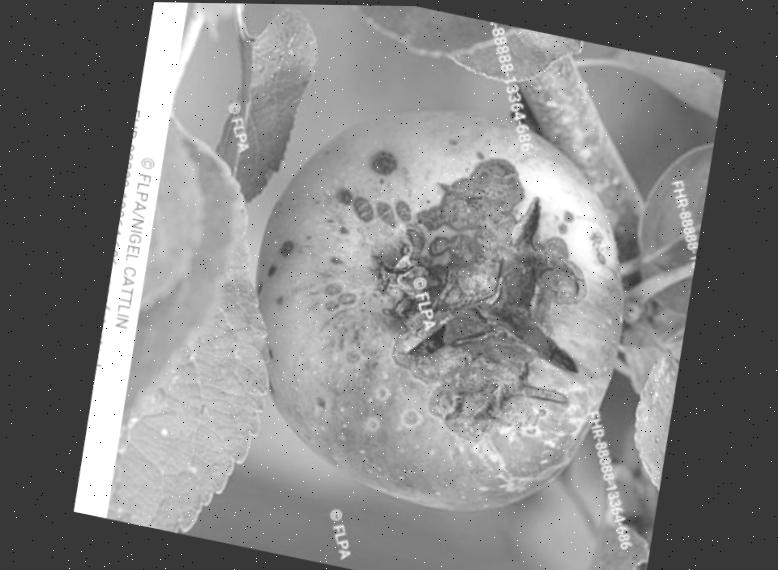SCAB: (228, 58, 699, 546)
